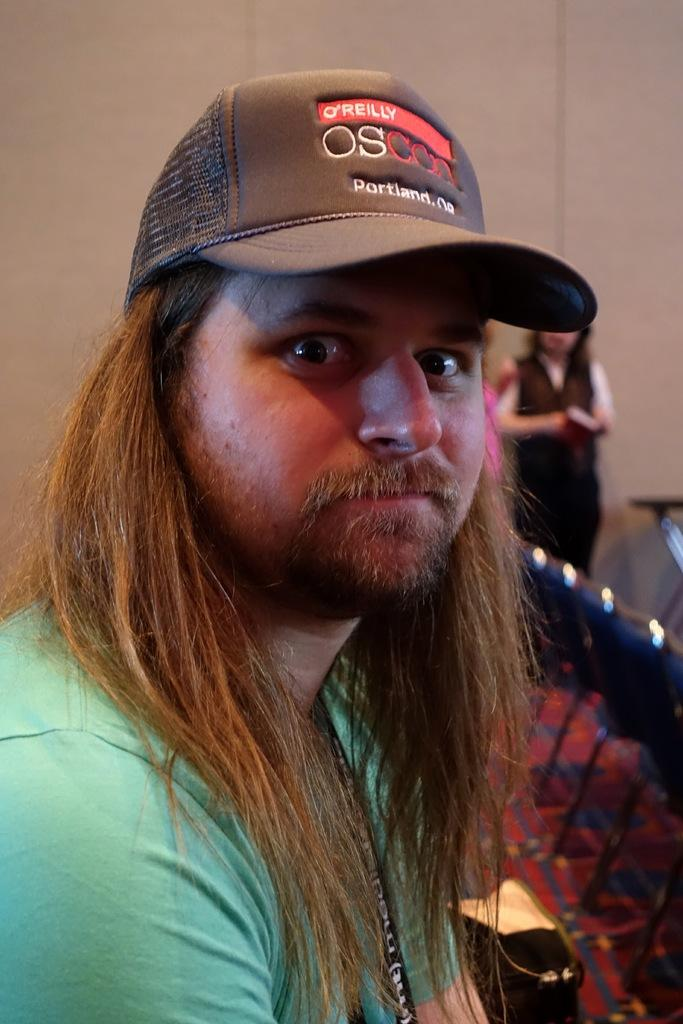Hat: (121, 70, 594, 336)
